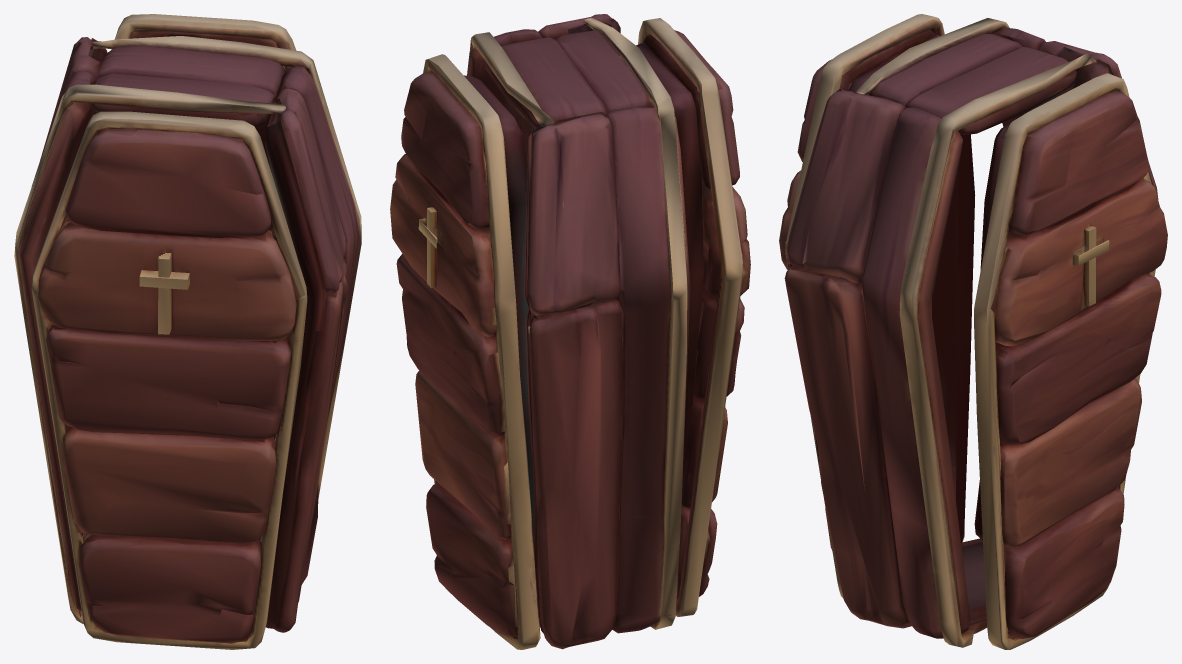
Rendered from S7_Coffin_LOD1.fbx.
3 renders of one model, left to right at view 1: azimuth 30°, elevation 25°; view 2: azimuth 150°, elevation 25°; view 3: azimuth 270°, elevation 25°, orthographic.
Parts seen in each view (by area): view 1: S7_Coffin_LOD1; view 2: S7_Coffin_LOD1; view 3: S7_Coffin_LOD1.
Boxes of the visible parts, x1,y1,x2,y2 form: S7_Coffin_LOD1: [14, 14, 361, 649]; S7_Coffin_LOD1: [390, 14, 750, 649]; S7_Coffin_LOD1: [779, 14, 1167, 649].
Size of the model in its own units: 1.08 by 1.7 by 1.11.
1 material, 1 textured.
